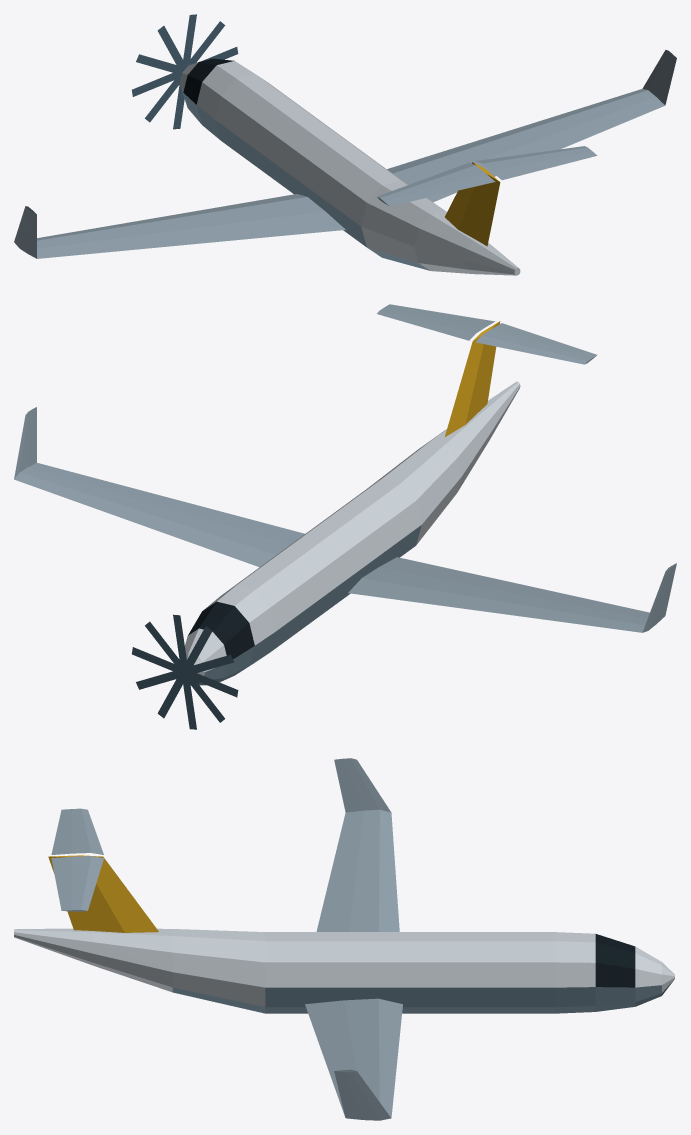
3 views of the same model, one above another, from view 1: azimuth 30°, elevation 25°; view 2: azimuth 150°, elevation 25°; view 3: azimuth 270°, elevation 25° (orthographic).
Visible parts, largest first — view 1: lod0; view 2: lod0; view 3: lod0.
Boxes of the visible parts, box(x1,y1,x2,y2) form: lod0: box(14, 14, 676, 275); lod0: box(14, 304, 676, 729); lod0: box(14, 758, 674, 1120).
Size of what is drawn, in the model's own units: 1.11 by 0.2959 by 1.
